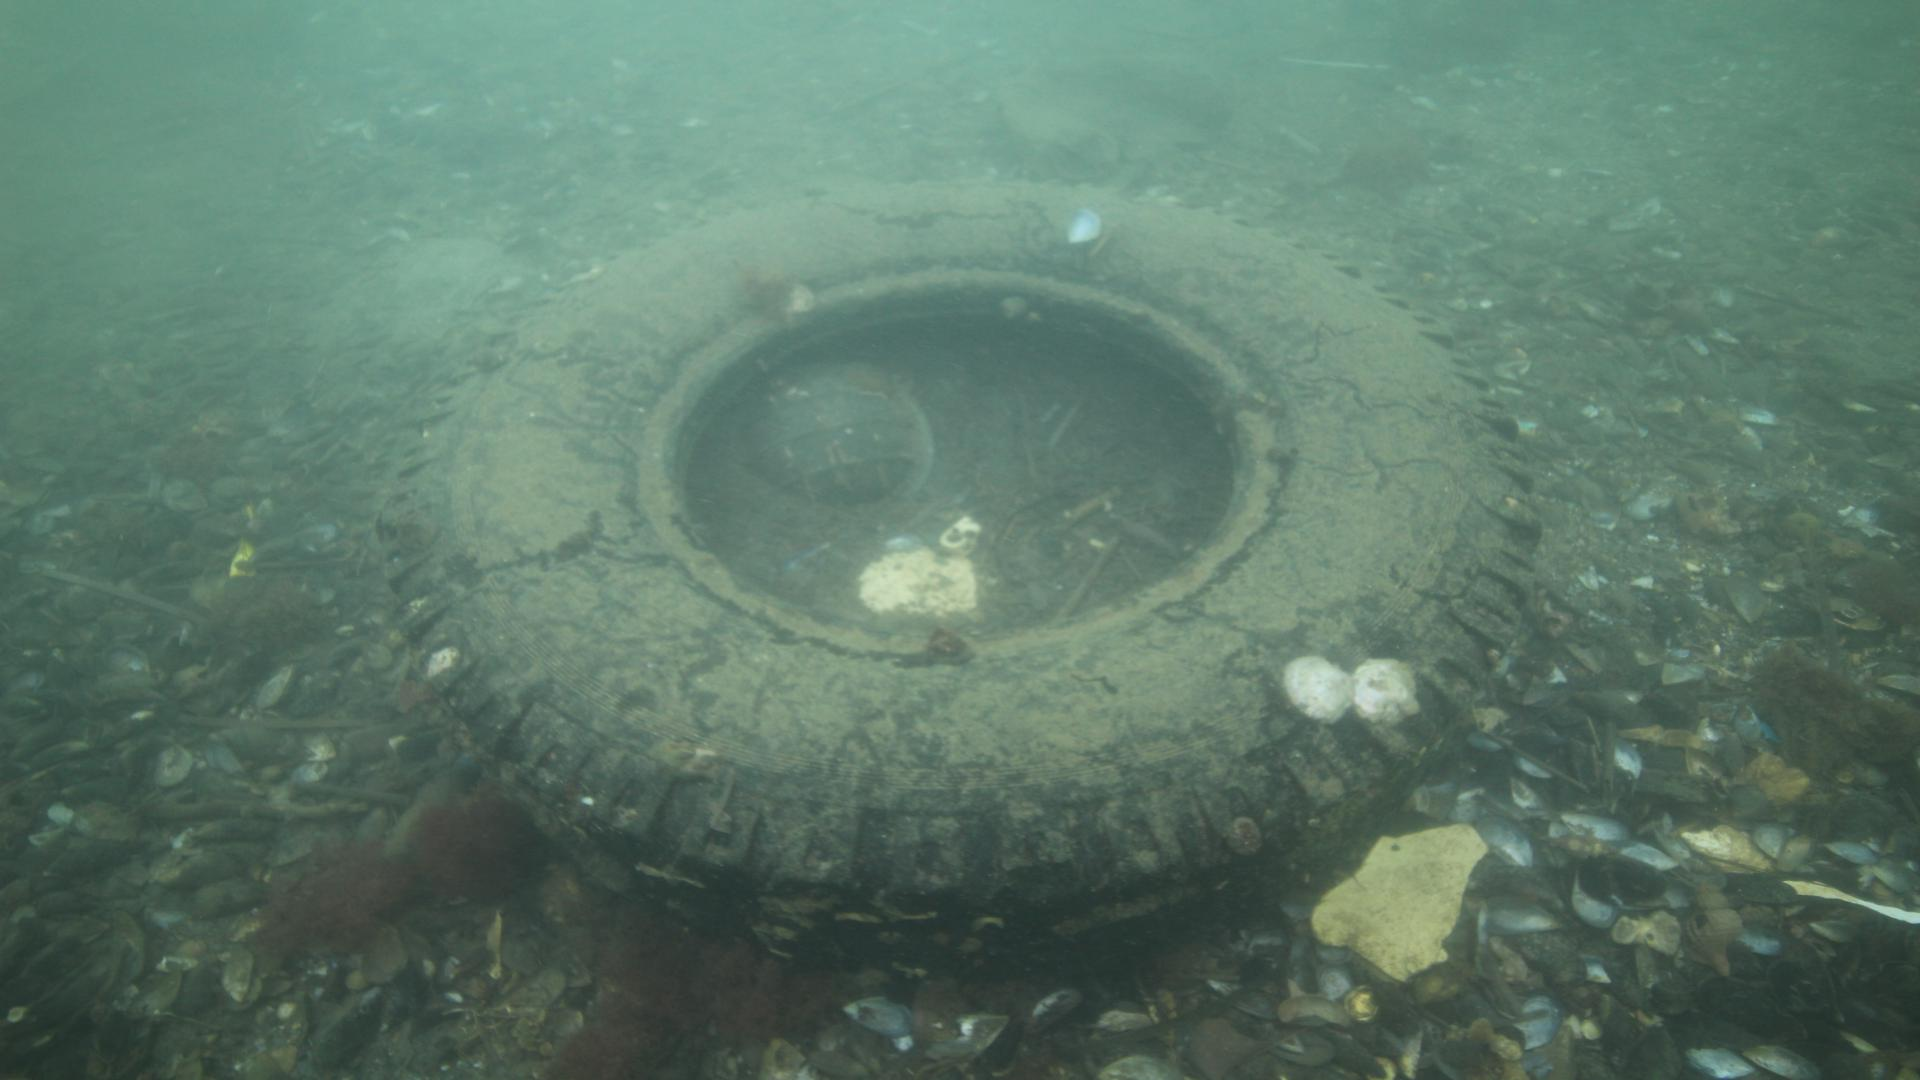tire: (377, 173, 1549, 982)
